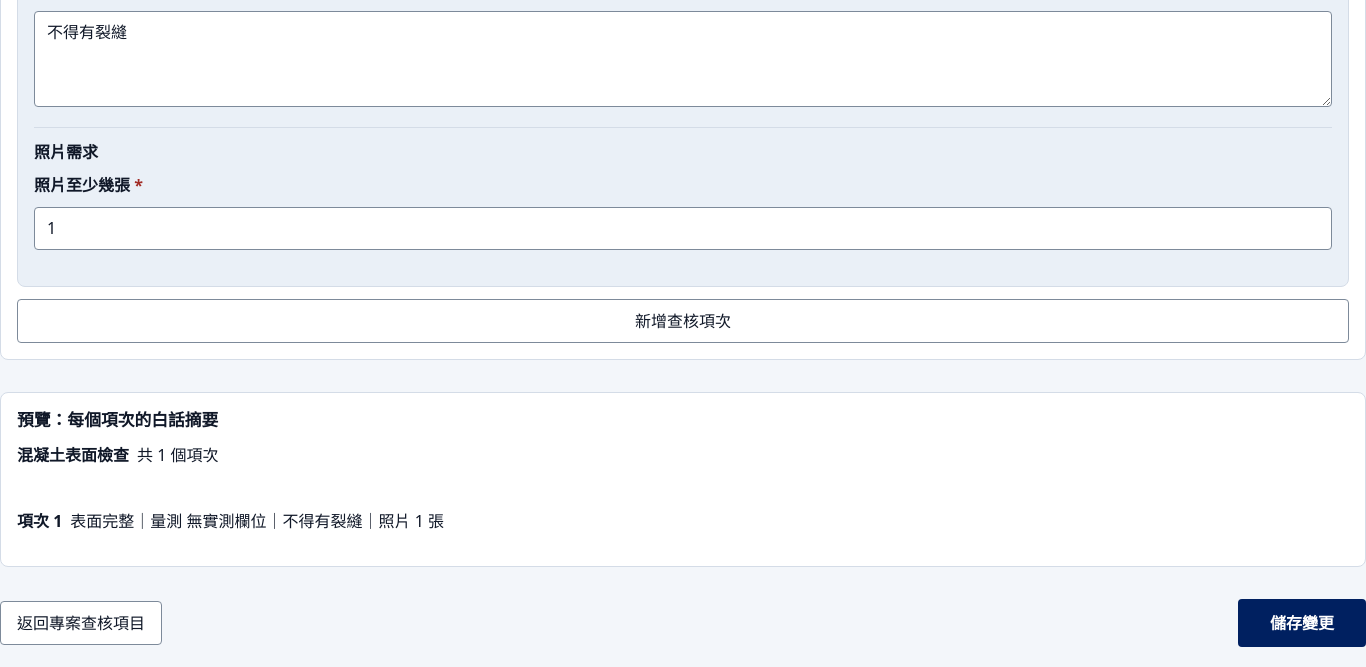
Scenario: ProjectItemChangePage › ignores draft and cancelled Tasks in the result text (#491)
The width and height of the screenshot is (1366, 667).
(page scrolled)
Step 1. Click the button "儲存變更" → [1302, 623], box [1238, 599, 1365, 647]
(page scrolled)
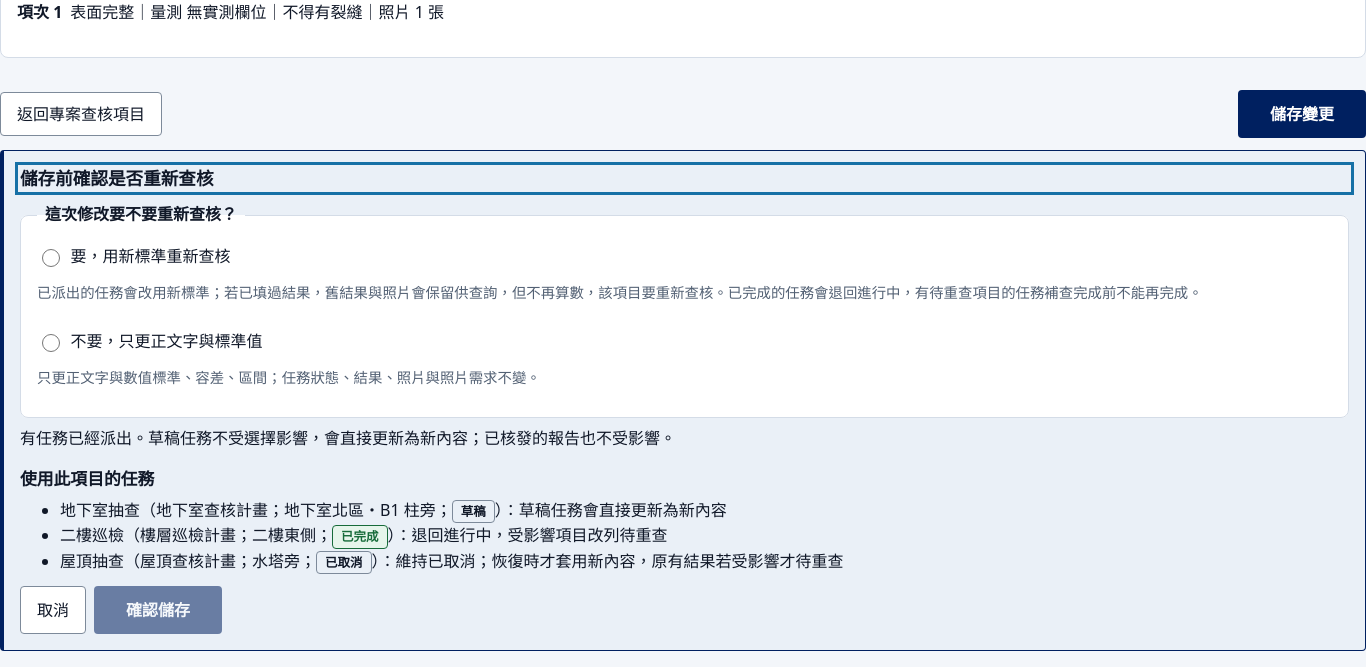
Step 2. Click the radio button labelled "要，用新標準重新查核" → [51, 258], box [42, 249, 60, 267]
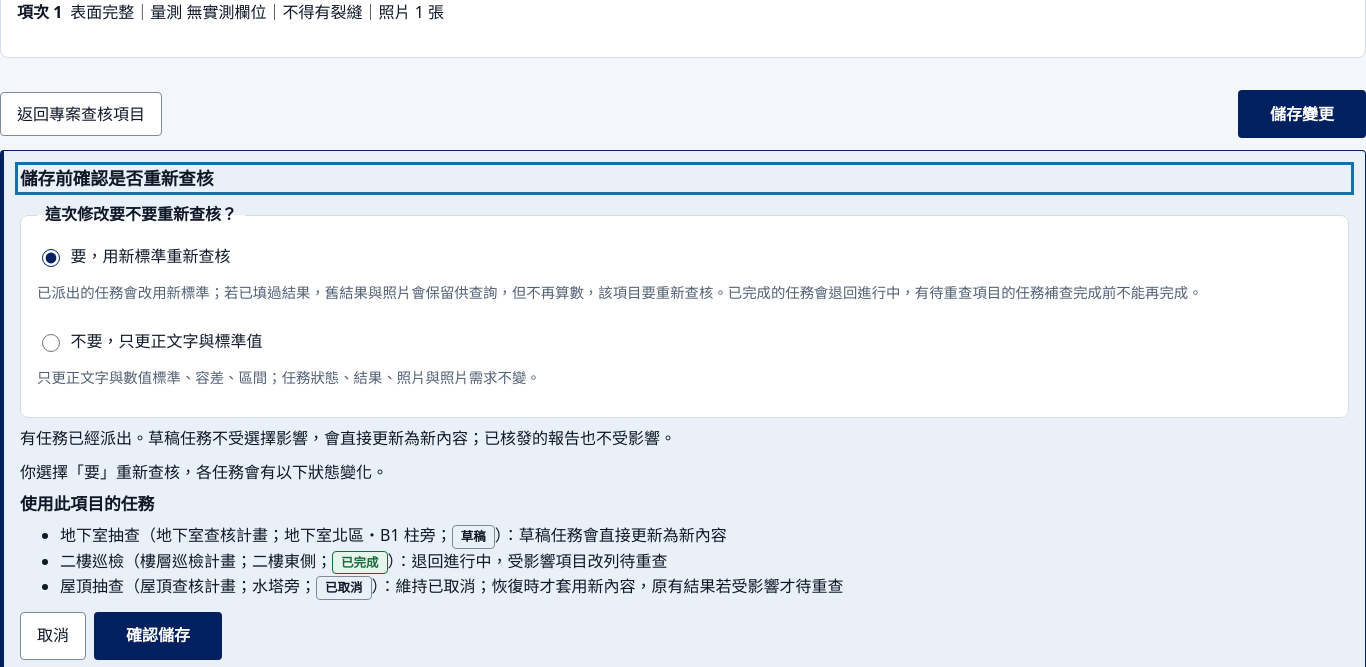
Step 3. Click the button "確認儲存" → [158, 636], box [94, 612, 222, 660]
(page scrolled)
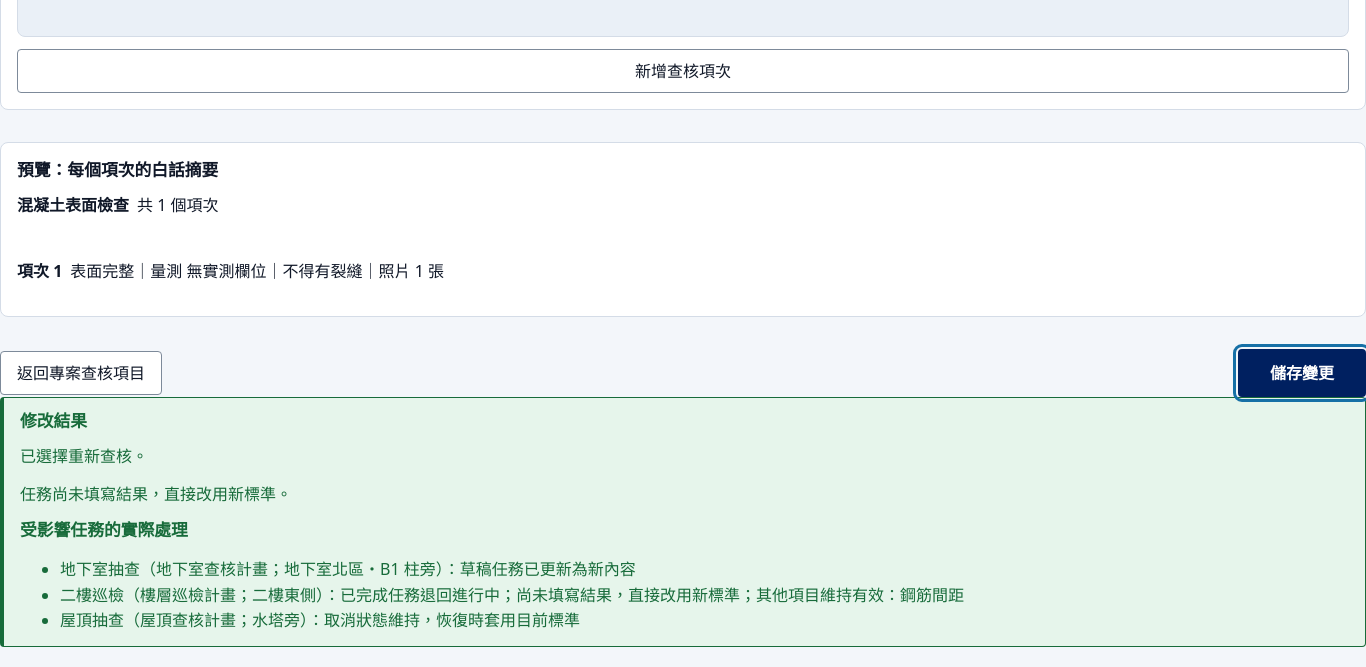
expect the text "任務尚未填寫結果，直接改用新標準。" is shown: met, box [20, 483, 292, 505]
expect the text "保留供查詢" is gone: met
